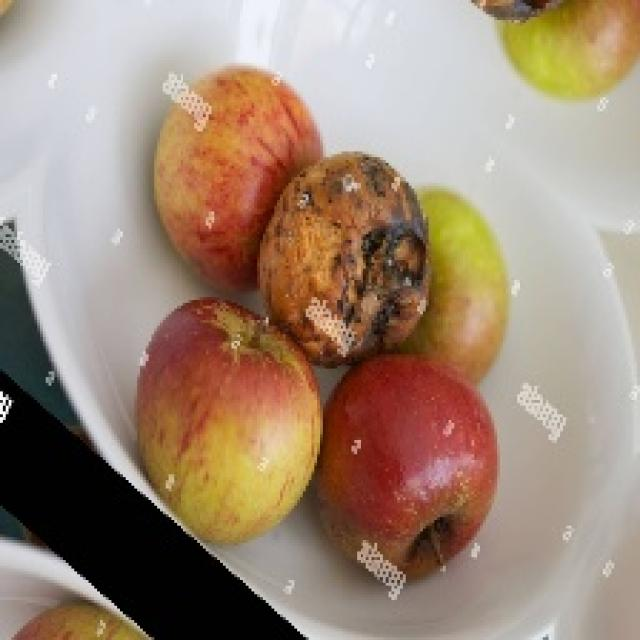100-_ripeness: (329, 368, 494, 582), (157, 67, 259, 282)
rotten_apple: (262, 155, 421, 358)
